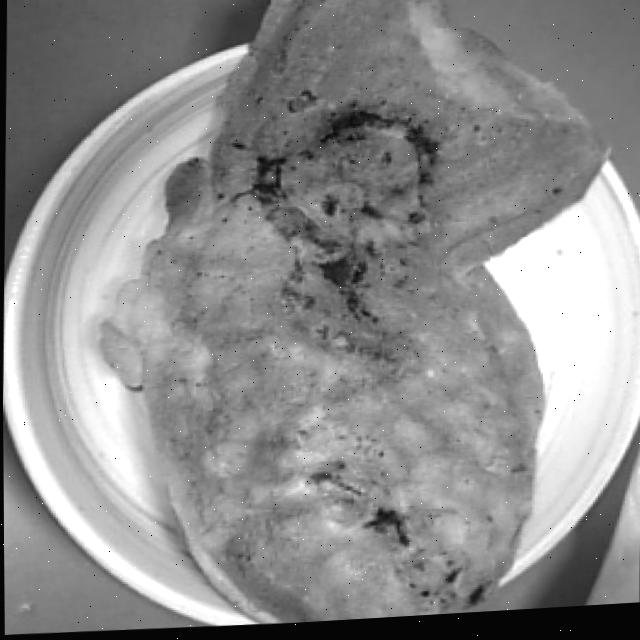熟制海鲜: (102, 0, 630, 635)
